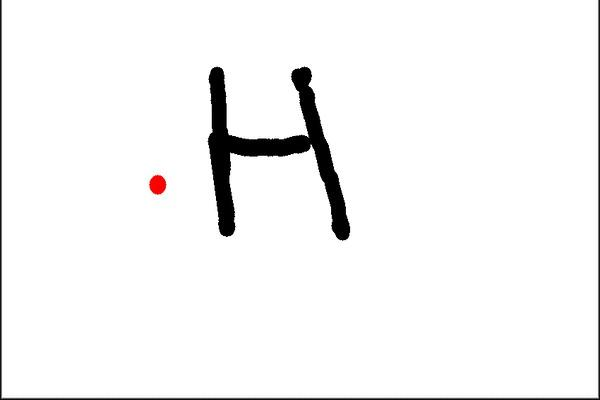H: (196, 52, 361, 248)
